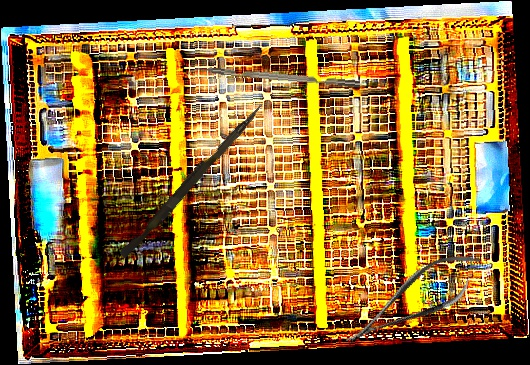Chopper: (186, 62, 361, 97)
Micro Scissor: (333, 239, 493, 361)
Pusher: (119, 97, 265, 263)
